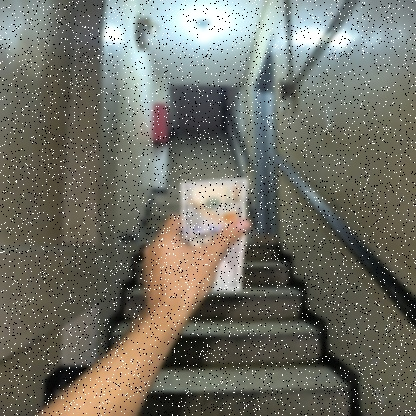one_hundred-front: (178, 180, 250, 289)
